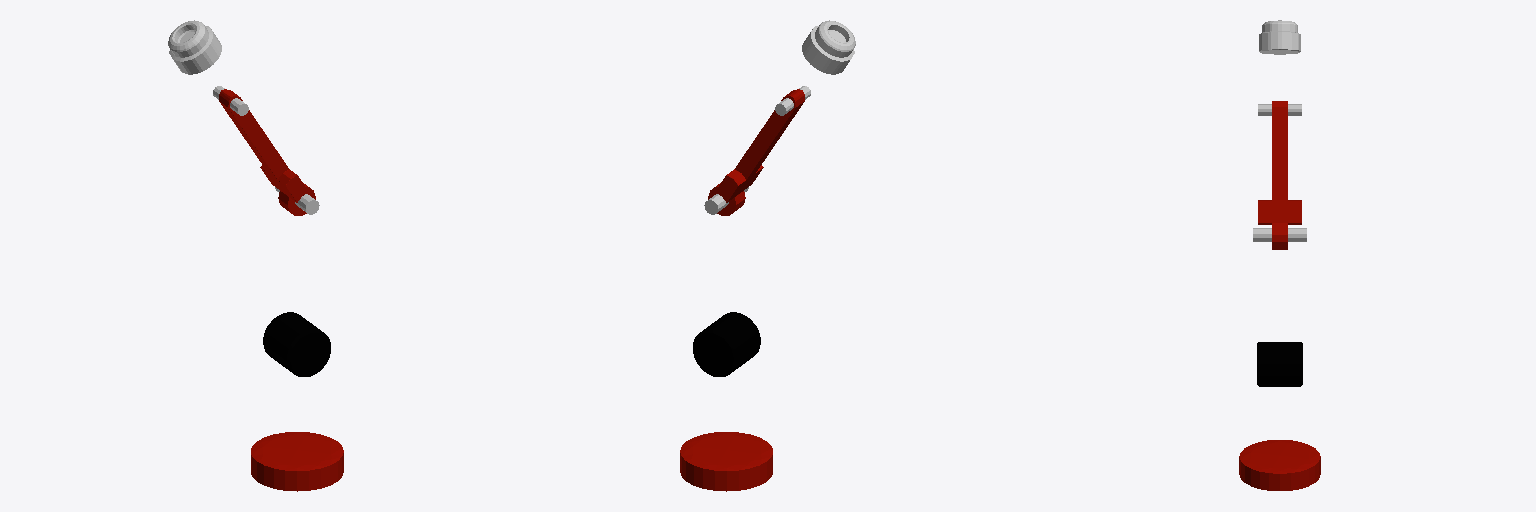
URDF robot description (brazo_robotico):
<robot name="brazo_robotico">
    <!-- BASE DEL ROBOT -->
    <link name="world"/>


    <!-- BASE DEL BRAZO -->
    <link name="base_link">
        <visual>
            <geometry>
                <mesh filename="package://mis_modelos/meshes/robotarm_meshes/Base_brazo.dae"/>
            </geometry>
            <origin rpy="0 0 0" xyz="0 0 0"/>
        </visual>

        <collision>
            <geometry>
                <mesh filename="package://mis_modelos/meshes/robotarm_meshes/Base_brazo.dae"/>
                <!--<cylinder length="0.93" radius="3.8"/>-->
            </geometry>
            <origin rpy="0 0 0" xyz="0 0 0"/>
        </collision>

        <inertial>
            <origin xyz="0 0 0.465"/>
            <mass value="2000"/>
            <inertia ixx="7364.15" ixy="0.0" ixz="0.0" iyy="7364.15" iyz="0.0" izz="14440"/>
        </inertial>
    </link>

    <gazebo reference="base_link"/>

    <joint name="base_joint" type="fixed">
        <parent link="world"/>
        <child link="base_link"/>
    </joint>


    <!-- BASE DEL CILINDRO -->
    <link name="base_cilindro_link">
        <visual>
            <geometry>
                <mesh filename="package://mis_modelos/meshes/robotarm_meshes/Base_cilindro.dae"/>
            </geometry>
            <origin rpy="0 0 0" xyz="0 0 0"/>
        </visual>

        <collision>
            <geometry>
                <mesh filename="package://mis_modelos/meshes/robotarm_meshes/Base_cilindro.dae"/>
                <!--<cylinder length="0.63" radius="1.25"/>-->
            </geometry>
            <origin rpy="0 0 0" xyz="0 0 0"/>
        </collision>

        <inertial>
            <origin xyz="0 0 0.93"/>
            <mass value="50"/>
            <inertia ixx="21.185" ixy="0.0" ixz="0.0" iyy="21.185" iyz="0.0" izz="39.0625"/>
        </inertial>
    </link>

    <gazebo reference="base_cilindro_link"/>

    <joint name="base_cilindro_joint" type="continuous">
        <parent link="base_link"/>
		<child link="base_cilindro_link"/>
		<origin xyz="0 0 0" rpy="0 0 0"/>
        <limit lower="-3.14" upper="3.14" effort="1" velocity="3.14"/>
		<axis xyz="0 0 1"/>
    </joint>


    <!-- CILINDRO -->
    <link name="cilindro_link">
        <visual>
            <geometry>
                <mesh filename="package://mis_modelos/meshes/robotarm_meshes/Cilindro.dae"/>
            </geometry>
            <origin rpy="0 0 0" xyz="0 0 0"/>
        </visual>

        <collision>
            <geometry>
                <mesh filename="package://mis_modelos/meshes/robotarm_meshes/Cilindro.dae"/>
                <!--<cylinder length="3.5" radius="0.46"/>-->
            </geometry>
            <origin rpy="0 0 0" xyz="0 0 0"/>
        </collision>

        <inertial>
            <origin xyz="0 0 0"/>
            <mass value="40"/>
            <inertia ixx="42.9493" ixy="0.0" ixz="0.0" iyy="42.9493" iyz="0.0" izz="4.232"/>
        </inertial>
    </link>

    <gazebo reference="cilindro_link"/>

    <joint name="cilindro_joint" type="fixed">
        <parent link="base_cilindro_link"/>
		<child link="cilindro_link"/>
		<origin xyz="0 0 0" rpy="0 0 0"/>
    </joint>


    <!-- CABEZA DEL CILINDRO -->
    <link name="cabeza_cilindro_link">
        <visual>
            <geometry>
                <mesh filename="package://mis_modelos/meshes/robotarm_meshes/Cabeza_cilindro.dae"/>
            </geometry>
            <origin rpy="0 0 0" xyz="0 0 0"/>
        </visual>

        <collision>
            <geometry>
                <mesh filename="package://mis_modelos/meshes/robotarm_meshes/Cabeza_cilindro.dae"/>
                <!--<cylinder length="0.35" radius="0.67"/>-->
            </geometry>
            <origin rpy="0 0 0" xyz="0 0 0"/>
        </collision>

        <inertial>
            <origin xyz="0 0 0"/>
            <mass value="20"/>
            <inertia ixx="2.44867" ixy="0.0" ixz="0.0" iyy="2.44867" iyz="0.0" izz="4.489"/>
        </inertial>
    </link>

    <gazebo reference="cabeza_cilindro_link"/>

    <joint name="cabeza_cilindro_joint" type="fixed">
        <parent link="cilindro_link"/>
		<child link="cabeza_cilindro_link"/>
		<origin xyz="0 0 0" rpy="0 0 0"/>
    </joint>


    <!-- PRIMER ESLABÓN -->
    <link name="Link1_link">
        <visual>
            <geometry>
                <mesh filename="package://mis_modelos/meshes/robotarm_meshes/Link1.dae"/>
            </geometry>
            <origin rpy="0 0 0" xyz="0 0 -4.2"/>
        </visual>

        <collision>
            <geometry>
                <mesh filename="package://mis_modelos/meshes/robotarm_meshes/Link1.dae"/>
                <!--<cylinder length="5.45" radius="0.77"/>-->
            </geometry>
            <origin rpy="0 0 0" xyz="0 0 -4.2"/>
        </collision>

        <inertial>
            <origin xyz="0 0 2.1"/>
            <mass value="20"/>
            <inertia ixx="52.468667" ixy="0.0" ixz="0.0" iyy="52.468667" iyz="0.0" izz="5.929"/>
        </inertial>
    </link>

    <gazebo reference="Link1_link"/>

    <joint name="Link1_joint" type="revolute">
        <parent link="cabeza_cilindro_link"/>
		<child link="Link1_link"/>
		<origin xyz="0 0 4.2" rpy="0 0 0"/>
        <limit lower="-0.6" upper="2.2" effort="1" velocity="3.14"/>
		<axis xyz="0 1 0"/>
    </joint>


    <!-- PRIMER TORNILLO -->
    <link name="Tornillo1_link">
        <visual>
            <geometry>
                <mesh filename="package://mis_modelos/meshes/robotarm_meshes/Tornillo1.dae"/>
            </geometry>
            <origin rpy="0 0 0" xyz="0 0 -4.2"/>
        </visual>

        <collision>
            <geometry>
                <mesh filename="package://mis_modelos/meshes/robotarm_meshes/Tornillo1.dae"/>
                <!--<cylinder length="0.4" radius="0.21"/>-->
            </geometry>
            <origin rpy="0 0 0" xyz="0 0 -4.2"/>
        </collision>

        <inertial>
            <origin xyz="0 0 2.1"/>
            <mass value="1"/>
            <inertia ixx="0.02435833" ixy="0.0" ixz="0.0" iyy="0.02435833" iyz="0.0" izz="0.02205"/>
        </inertial>
    </link>

    <gazebo reference="Tornillo1_link"/>

    <joint name="Tornillo1_joint" type="fixed">
        <parent link="Link1_link"/>
		<child link="Tornillo1_link"/>
		<origin xyz="0 0 0" rpy="0 0 0"/>
    </joint>


    <!-- SEGUNDO ESLABÓN -->
    <link name="Link2_link">
        <visual>
            <geometry>
                <mesh filename="package://mis_modelos/meshes/robotarm_meshes/Link2.dae"/>
            </geometry>
            <origin rpy="0 0 0" xyz="0 0 -8.48"/>
        </visual>

        <collision>
            <geometry>
                <mesh filename="package://mis_modelos/meshes/robotarm_meshes/Link2.dae"/>
                <!--<cylinder length="4.5" radius="0.85"/>-->
            </geometry>
            <origin rpy="0 0 0" xyz="0 0 -8.48"/>
        </collision>

        <inertial>
            <origin xyz="2.1 0 0" rpy="0 1.5708 0"/>
            <mass value="15"/>
            <inertia ixx="28.021875" ixy="0.0" ixz="0.0" iyy="28.021875" iyz="0.0" izz="5.41875"/>
        </inertial>
    </link>

    <gazebo reference="Link2_link"/>

    <joint name="Link2_joint" type="revolute">
        <parent link="Tornillo1_link"/>
		<child link="Link2_link"/>
		<origin xyz="0 0 4.28" rpy="0 0 0"/>
        <limit lower="-3.14" upper="-1.1" effort="1" velocity="3.14"/>
		<axis xyz="0 1 0"/>
    </joint>


    <!-- SEGUNDO TORNILLO -->
    <link name="Tornillo2_link">
        <visual>
            <geometry>
                <mesh filename="package://mis_modelos/meshes/robotarm_meshes/Tornillo2.dae"/>
            </geometry>
            <origin rpy="0 0 0" xyz="0 0 -8.48"/>
        </visual>

        <collision>
            <geometry>
                <mesh filename="package://mis_modelos/meshes/robotarm_meshes/Tornillo2.dae"/>
                <!--<cylinder length="0.4" radius="0.21"/>-->
            </geometry>
            <origin rpy="0 0 0" xyz="0 0 -8.48"/>
        </collision>

        <inertial>
            <origin xyz="0 0 0"/>
            <mass value="1"/>
            <inertia ixx="0.02435833" ixy="0.0" ixz="0.0" iyy="0.02435833" iyz="0.0" izz="0.02205"/>
        </inertial>
    </link>

    <gazebo reference="Tornillo2_link"/>

    <joint name="Tornillo2_joint" type="fixed">
        <parent link="Link2_link"/>
		<child link="Tornillo2_link"/>
		<origin xyz="0 0 0" rpy="0 0 0"/>
    </joint>


    <!-- TERCER ESLABÓN -->
    <link name="Link3_link">
        <visual>
            <geometry>
                <mesh filename="package://mis_modelos/meshes/robotarm_meshes/Link3.dae"/>
            </geometry>
            <origin rpy="0 0 0" xyz="-3.8 0 -8.48"/>
        </visual>

        <collision>
            <geometry>
                <mesh filename="package://mis_modelos/meshes/robotarm_meshes/Link3.dae"/>
                <!--<cylinder length="0.59" radius="1.15"/>-->
            </geometry>
            <origin rpy="0 0 0" xyz="-3.8 0 -8.48"/>
        </collision>

        <inertial>
            <origin xyz="0.95 0 0"/>
            <mass value="10"/>
            <inertia ixx="3.59633" ixy="0.0" ixz="0.0" iyy="3.59633" iyz="0.0" izz="6.6125"/>
        </inertial>
    </link>

    <gazebo reference="Link3_link"/>

    <joint name="Link3_joint" type="revolute">
        <parent link="Tornillo2_link"/>
		<child link="Link3_link"/>
		<origin xyz="3.8 0 0" rpy="0 0 0"/>
        <limit lower="-1.6" upper="1.6" effort="1" velocity="3.14"/>
		<axis xyz="0 1 0"/>
    </joint>


    <!-- CABEZA DEL BRAZO -->
    <link name="Cabeza_link">
        <visual>
            <geometry>
                <mesh filename="package://mis_modelos/meshes/robotarm_meshes/Cabeza.dae"/>
            </geometry>
            <origin rpy="0 0 0" xyz="-3.8 0 -8.48"/>
        </visual>

        <collision>
            <geometry>
                <mesh filename="package://mis_modelos/meshes/robotarm_meshes/Cabeza.dae"/>
                <!--<cylinder length="0.915" radius="1.3"/>-->
            </geometry>
            <origin rpy="0 0 0" xyz="-3.8 0 -8.48"/>
        </collision>

        <inertial>
            <origin xyz="1.9 0 0"/>
            <mass value="5"/>
            <inertia ixx="2.46134375" ixy="0.0" ixz="0.0" iyy="2.46134375" iyz="0.0" izz="4.225"/>
        </inertial>
    </link>

    <gazebo reference="Cabeza_link"/>

    <joint name="Cabeza_joint" type="continuous">
        <parent link="Link3_link"/>
		<child link="Cabeza_link"/>
		<origin xyz="0 0 0" rpy="0 0 0"/>
		<axis xyz="1 0 0"/>
    </joint>


    <!-- PLUGINS -->
    <gazebo>
            <plugin name="gazebo_ros_control" filename="libgazebo_ros_control.so">
                <robotNamespace>/modelo_brazo</robotNamespace>
                <legacyModeNS>true</legacyModeNS>
            </plugin>
    </gazebo>


    <!-- Base rotativa -->
    <transmission name="trans_base">
        <type>transmission_interface/SimpleTransmission</type>
        <joint name="base_cilindro_joint">
            <hardwareInterface>hardware_interface/EffortJointInterface</hardwareInterface>
        </joint>

        <actuator name="motor_base">
            <mechanicalReduction>1</mechanicalReduction>
        </actuator>
    </transmission>


    <!-- Primer eslabon -->
    <transmission name="trans_link1">
        <type>transmission_interface/SimpleTransmission</type>
        <joint name="Link1_joint">
            <hardwareInterface>hardware_interface/EffortJointInterface</hardwareInterface>
        </joint>

        <actuator name="motor_link1">
            <mechanicalReduction>1</mechanicalReduction>
        </actuator>
    </transmission>


    <!-- Segundo eslabon -->
    <transmission name="trans_link2">
        <type>transmission_interface/SimpleTransmission</type>
        <joint name="Link2_joint">
            <hardwareInterface>hardware_interface/EffortJointInterface</hardwareInterface>
        </joint>

        <actuator name="motor_link2">
            <mechanicalReduction>1</mechanicalReduction>
        </actuator>
    </transmission>


    <!-- Tercer eslabon -->
    <transmission name="trans_link3">
        <type>transmission_interface/SimpleTransmission</type>
        <joint name="Link3_joint">
            <hardwareInterface>hardware_interface/EffortJointInterface</hardwareInterface>
        </joint>

        <actuator name="motor_link3">
            <mechanicalReduction>1</mechanicalReduction>
        </actuator>
    </transmission>


    <!-- Cabeza -->
    <transmission name="trans_cabeza">
        <type>transmission_interface/SimpleTransmission</type>
        <joint name="Cabeza_joint">
            <hardwareInterface>hardware_interface/EffortJointInterface</hardwareInterface>
        </joint>

        <actuator name="motor_cabeza">
            <mechanicalReduction>1</mechanicalReduction>
        </actuator>
    </transmission>
</robot>

--- Render facts (derived) ---
Views: 3 orthographic renders of the robot side by side, from view 1: azimuth 30°, elevation 25°; view 2: azimuth 150°, elevation 25°; view 3: azimuth 270°, elevation 25°.
Model brazo_robotico with 11 links and 10 joints (3 revolute, 2 continuous, 5 fixed), rooted at world, posed joints at zero except 1 at the middle of their limits (Link2_joint = -2.12).
Links seen in each view (by area): view 1: base_cilindro_link, cabeza_cilindro_link, Link2_link, Cabeza_link; view 2: base_cilindro_link, cabeza_cilindro_link, Link2_link, Cabeza_link; view 3: base_cilindro_link, Link2_link, cabeza_cilindro_link, Cabeza_link, Tornillo1_link.
Link boxes in pixels (<box>): base_cilindro_link: <box>251,432,343,491</box>; cabeza_cilindro_link: <box>263,312,330,376</box>; Link2_link: <box>219,89,315,215</box>; Cabeza_link: <box>168,20,221,74</box>; base_cilindro_link: <box>680,432,772,491</box>; cabeza_cilindro_link: <box>693,312,760,376</box>; Link2_link: <box>708,89,804,215</box>; Cabeza_link: <box>802,20,855,74</box>; base_cilindro_link: <box>1239,440,1320,490</box>; Link2_link: <box>1258,101,1301,249</box>; cabeza_cilindro_link: <box>1257,342,1302,386</box>; Cabeza_link: <box>1259,20,1300,54</box>; Tornillo1_link: <box>1253,228,1306,241</box>.
Bounding box of the posed robot: 4.93 × 2.4 × 13.43 m (x, y, z).
6 mesh visuals loaded from 10 distinct referenced files (6 Collada DAE); not drawn: 4 (reference not matched to a file when rendering).